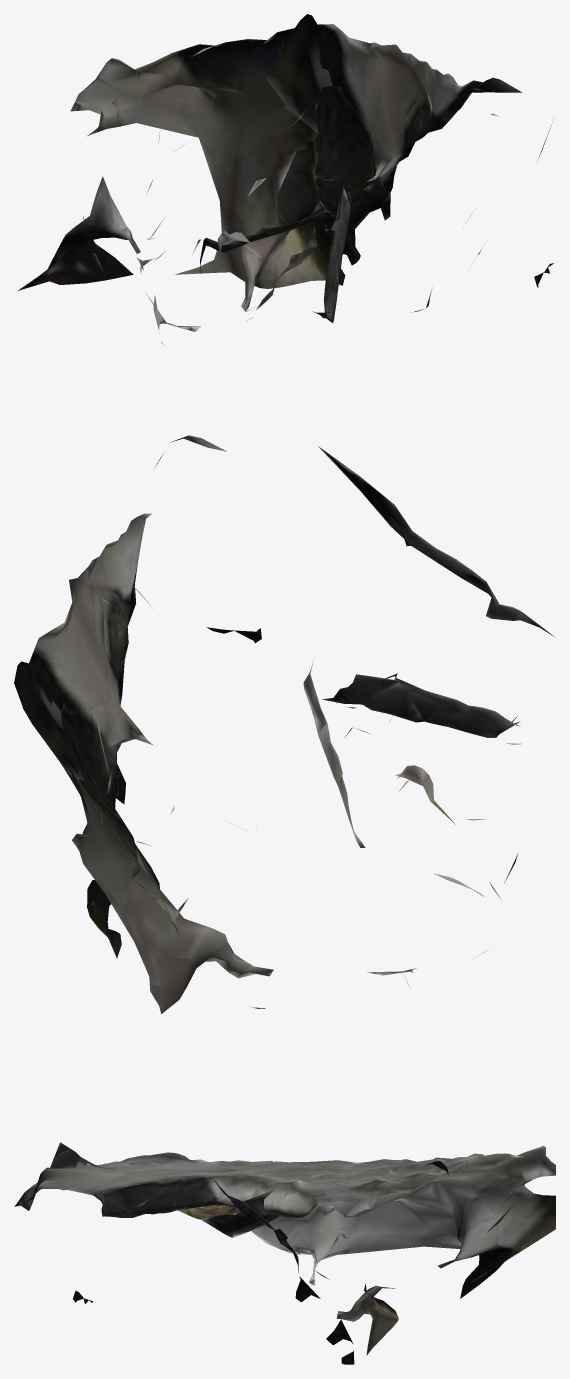
The model's file is hall.glb.
The picture shows the model from 3 angles, top to bottom: view 1: azimuth 30°, elevation 25°; view 2: azimuth 150°, elevation 25°; view 3: azimuth 270°, elevation 25°; orthographic projection. The views are drawn at different scales.
Size of the model in its own units: 0.9139 by 0.7148 by 1.41.
Materials: 1 (1 with a texture image).
